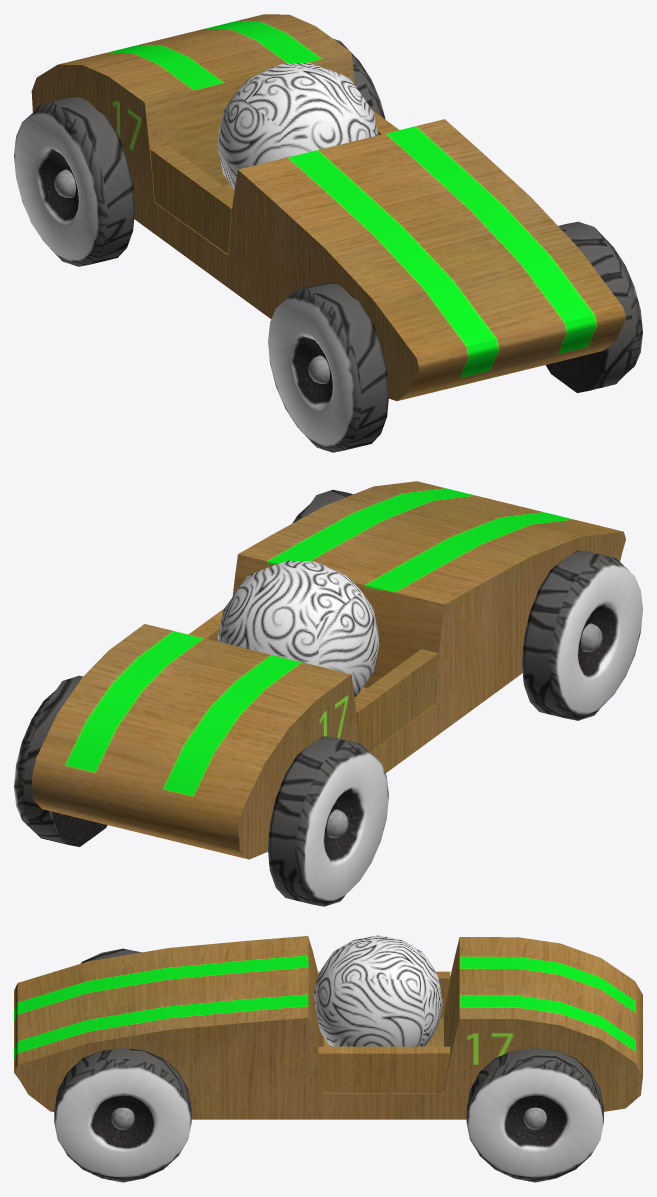
Rendered from SM_Car.fbx.
The picture shows the model from 3 angles, top to bottom: view 1: azimuth 30°, elevation 25°; view 2: azimuth 150°, elevation 25°; view 3: azimuth 270°, elevation 25°; orthographic projection. The views are drawn at different scales.
Visible parts, largest first — view 1: carBody, wheelB, wheelA, ball, wheelD, doorB, wheelC; view 2: carBody, wheelA, wheelB, ball, doorB, wheelC, wheelD; view 3: carBody, wheelC, wheelD, ball, doorA, pegD, pegC, doorB.
Part boxes in pixels (x1=…): carBody: x1=31, y1=14, x2=625, y2=400; wheelB: x1=14, y1=96, x2=135, y2=266; wheelA: x1=268, y1=282, x2=389, y2=452; ball: x1=217, y1=62, x2=378, y2=189; wheelD: x1=546, y1=221, x2=642, y2=392; doorB: x1=150, y1=145, x2=233, y2=254; wheelC: x1=333, y1=38, x2=385, y2=119; carBody: x1=31, y1=481, x2=625, y2=859; wheelA: x1=521, y1=550, x2=642, y2=720; wheelB: x1=267, y1=736, x2=388, y2=906; ball: x1=217, y1=560, x2=379, y2=696; doorB: x1=354, y1=649, x2=438, y2=751; wheelC: x1=14, y1=675, x2=107, y2=846; wheelD: x1=292, y1=490, x2=353, y2=523; carBody: x1=14, y1=936, x2=642, y2=1119; wheelC: x1=466, y1=1048, x2=603, y2=1182; wheelD: x1=54, y1=1048, x2=191, y2=1182; ball: x1=314, y1=935, x2=442, y2=1046; doorA: x1=318, y1=1046, x2=450, y2=1093; pegD: x1=111, y1=1107, x2=134, y2=1129; pegC: x1=523, y1=1107, x2=546, y2=1129; doorB: x1=318, y1=971, x2=450, y2=1018.
Size of the model in its own units: 8 by 6.01 by 18.5.
